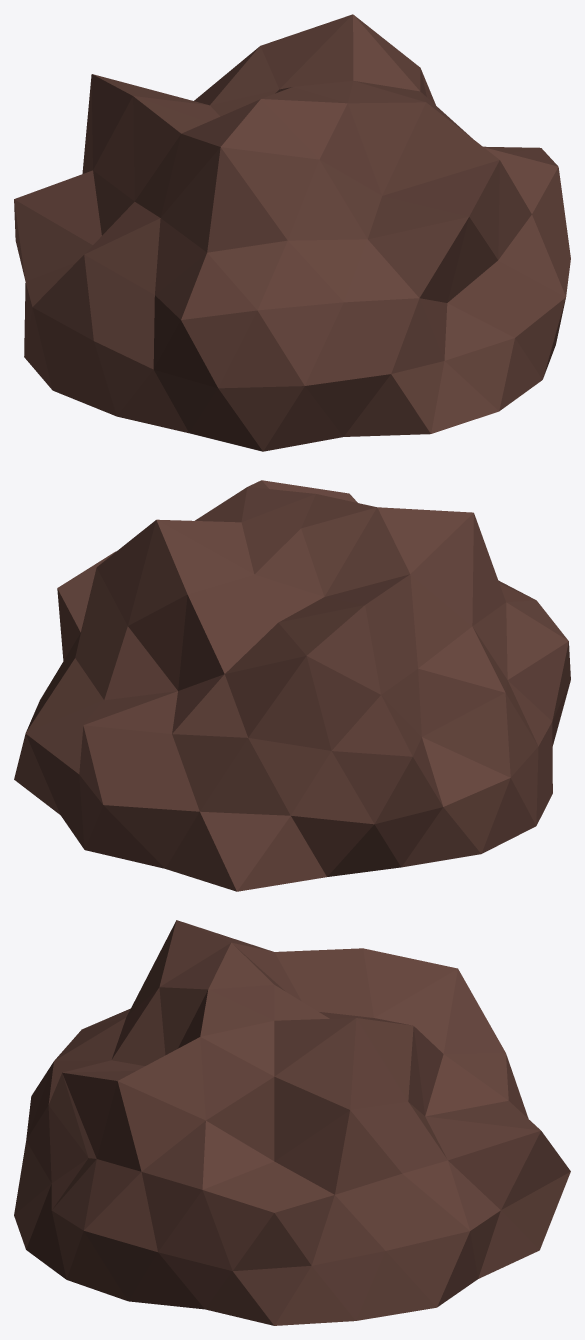
The model's file is DirtPile.dae.
3 renders of one model, top to bottom at view 1: azimuth 30°, elevation 25°; view 2: azimuth 150°, elevation 25°; view 3: azimuth 270°, elevation 25°, orthographic. The views are drawn at different scales.
Parts seen in each view (by area): view 1: DirtPile; view 2: DirtPile; view 3: DirtPile.
Boxes of the visible parts, left/top/right/bottom form: DirtPile: left=14, top=14, right=570, bottom=451; DirtPile: left=14, top=480, right=570, bottom=891; DirtPile: left=14, top=920, right=570, bottom=1325.
Bounding box in the file's own units: 2.55 × 2.68 × 1.33.
